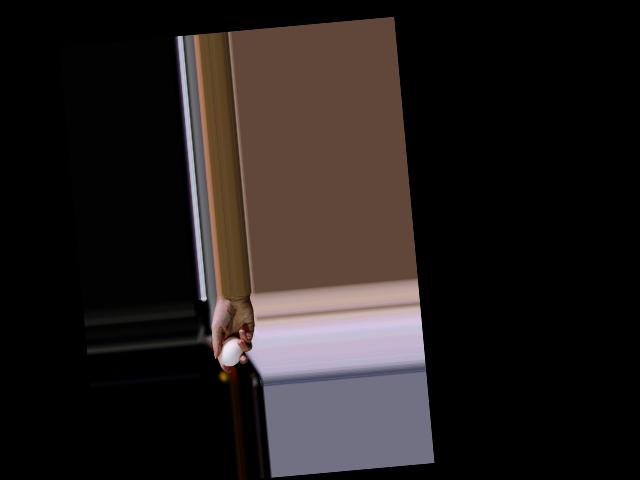egg: (217, 336, 244, 367)
